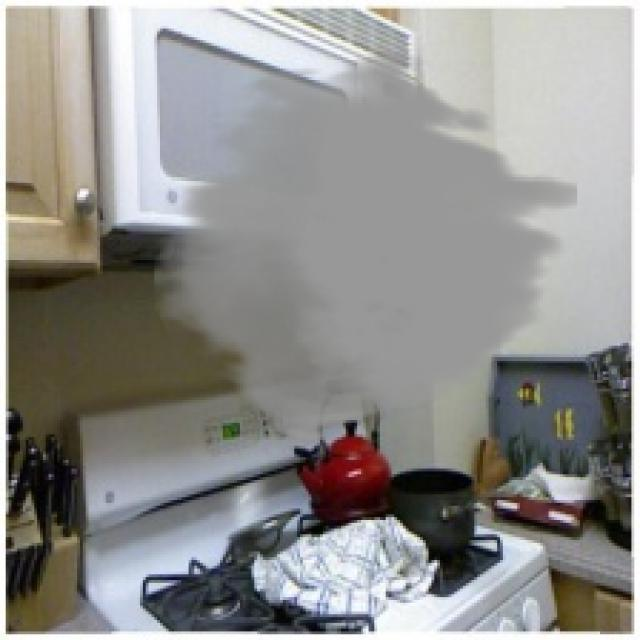Smoke: (154, 48, 577, 446)
